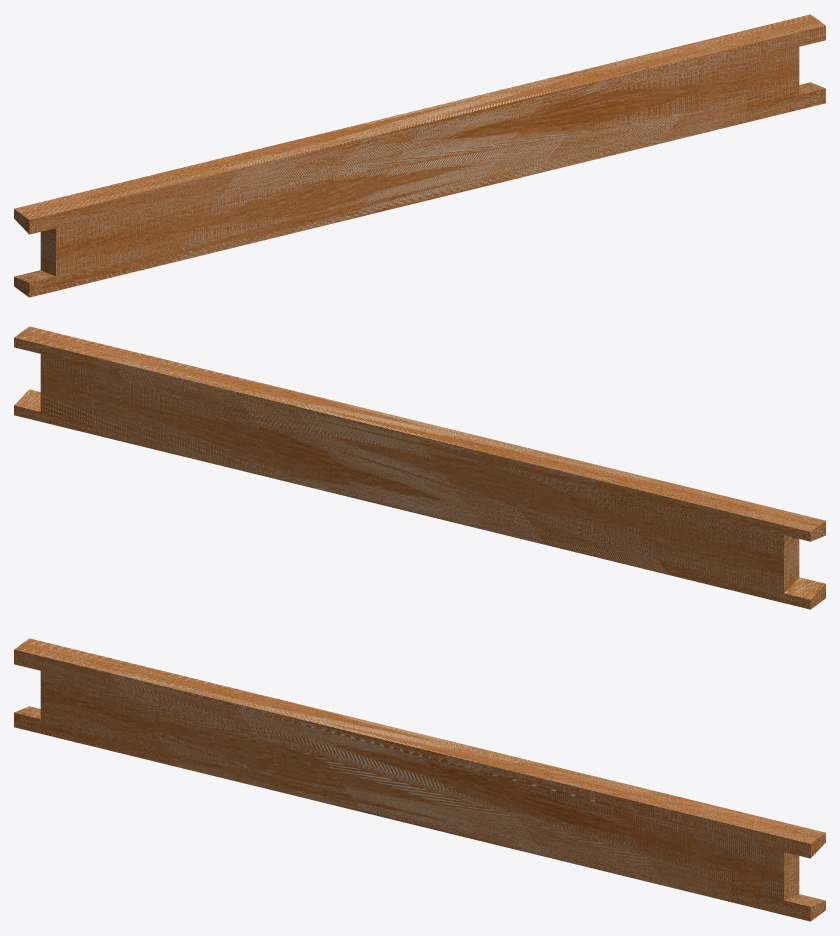
Rendered from original-47.obj.
3 views of the same model, one above another, from view 1: azimuth 30°, elevation 25°; view 2: azimuth 150°, elevation 25°; view 3: azimuth 330°, elevation 25° (orthographic).
Visible parts, largest first — view 1: Drawer_back2/Drawer_back/mesh42/mesh42-geometry#mesh42-geometry; view 2: Drawer_back2/Drawer_back/mesh42/mesh42-geometry#mesh42-geometry; view 3: Drawer_back2/Drawer_back/mesh42/mesh42-geometry#mesh42-geometry.
Boxes of the visible parts, bbox=[...] form: Drawer_back2/Drawer_back/mesh42/mesh42-geometry#mesh42-geometry: bbox=[14, 14, 825, 297]; Drawer_back2/Drawer_back/mesh42/mesh42-geometry#mesh42-geometry: bbox=[14, 326, 825, 609]; Drawer_back2/Drawer_back/mesh42/mesh42-geometry#mesh42-geometry: bbox=[14, 638, 825, 921].
Size of the model in its own units: 0.5976 by 0.0557 by 0.02.
Materials: 2 (1 with a texture image).
